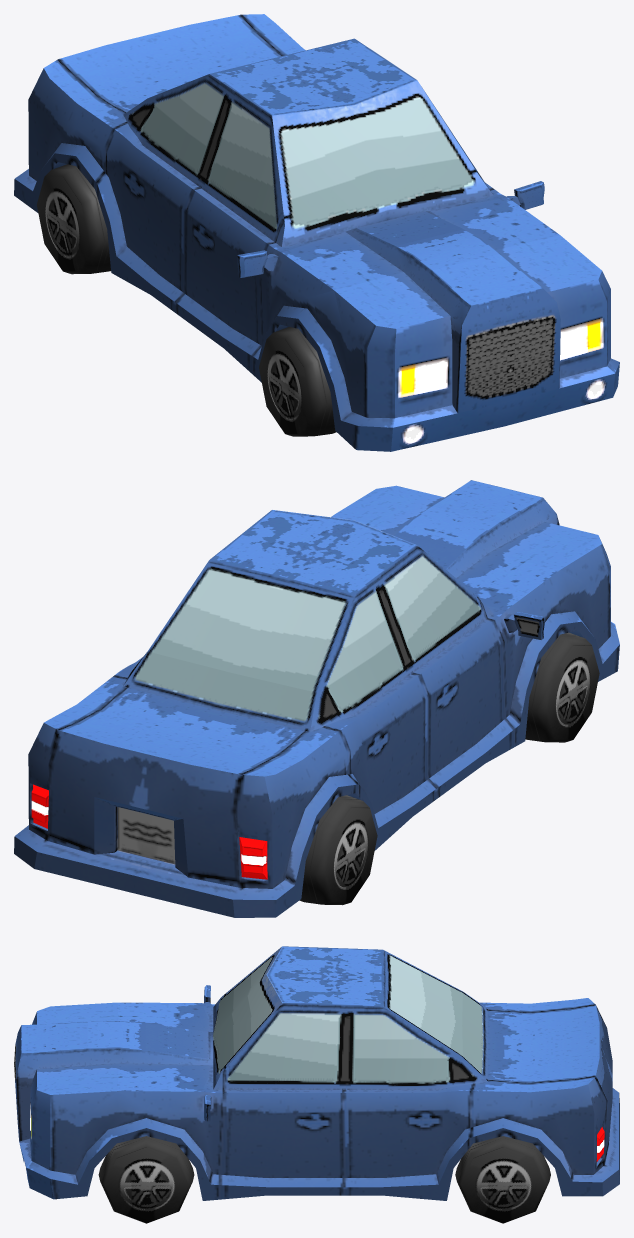
Rendered from Car1.fbx.
3 views of the same model, one above another, from view 1: azimuth 30°, elevation 25°; view 2: azimuth 150°, elevation 25°; view 3: azimuth 270°, elevation 25° (orthographic). The views are drawn at different scales.
Parts seen in each view (by area): view 1: CarBody, FrontRightWheel, BackRightWheel; view 2: CarBody, BackRightWheel, FrontRightWheel; view 3: CarBody, BackLeftWheel, FrontLeftWheel.
Part boxes in pixels (bbox=[...]): CarBody: bbox=[14, 14, 619, 451]; FrontRightWheel: bbox=[259, 327, 336, 436]; BackRightWheel: bbox=[37, 164, 110, 274]; CarBody: bbox=[14, 480, 619, 917]; BackRightWheel: bbox=[299, 795, 377, 905]; FrontRightWheel: bbox=[525, 632, 599, 742]; CarBody: bbox=[14, 946, 619, 1200]; BackLeftWheel: bbox=[455, 1136, 550, 1223]; FrontLeftWheel: bbox=[98, 1136, 194, 1223].
Bounding box in the file's own units: 227 × 175 × 487.
